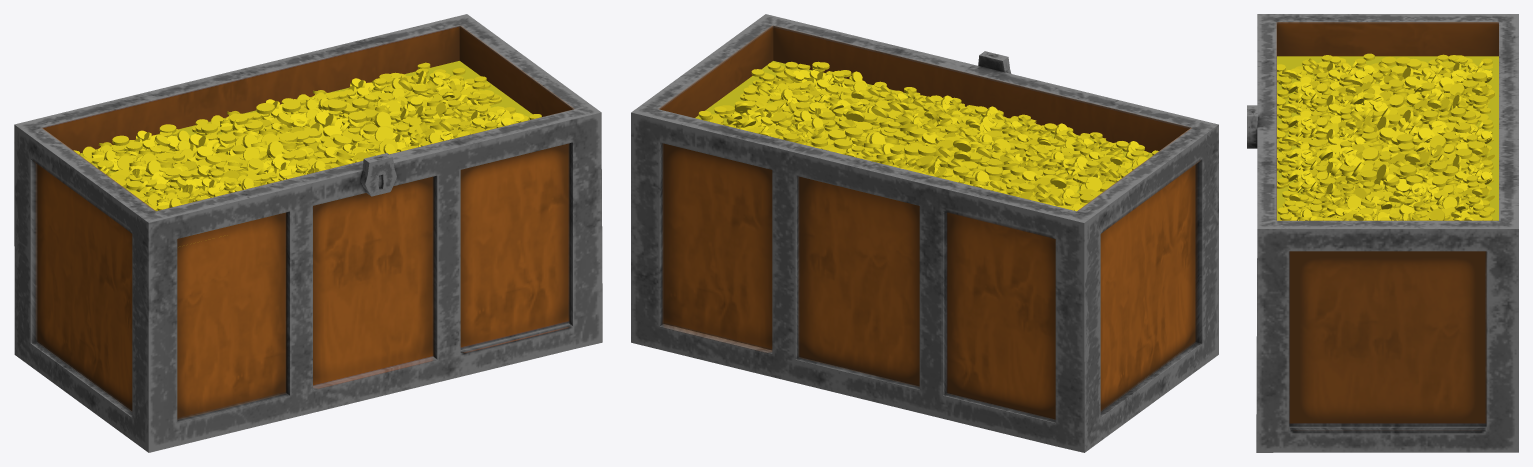
File: Chest_Under.fbx
3 views of the same model, side by side, from view 1: azimuth 30°, elevation 25°; view 2: azimuth 150°, elevation 25°; view 3: azimuth 270°, elevation 25° (orthographic). The views are drawn at different scales.
Visible parts, largest first — view 1: Cofre; view 2: Cofre; view 3: Cofre.
Boxes of the visible parts, left/top/right/bottom form: Cofre: left=14, top=14, right=602, bottom=452; Cofre: left=631, top=14, right=1218, bottom=452; Cofre: left=1247, top=14, right=1518, bottom=452.
Bounding box in the file's own units: 206 × 105 × 110.
